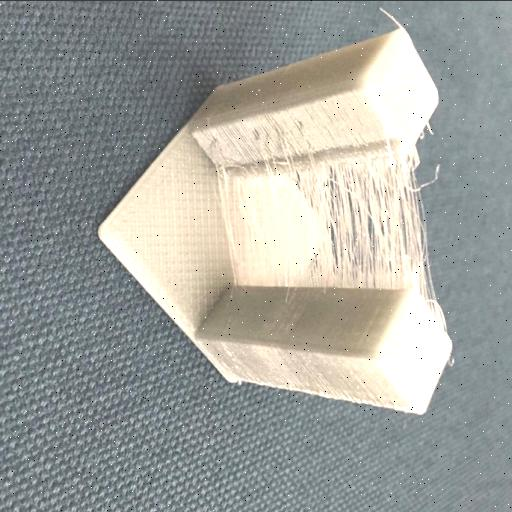stringing: (256, 154, 420, 288)
